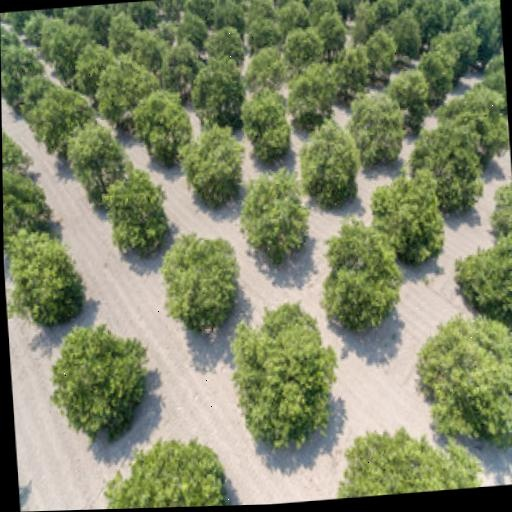tree-top: (234, 299, 338, 459), (426, 301, 512, 441), (54, 324, 151, 441), (346, 429, 490, 497), (3, 228, 89, 332), (402, 120, 495, 214), (112, 437, 231, 509), (324, 218, 405, 316), (165, 237, 244, 324), (97, 178, 173, 268), (237, 170, 310, 259), (370, 174, 445, 253), (448, 245, 512, 326), (66, 112, 125, 193), (136, 86, 194, 166), (450, 78, 510, 154), (174, 130, 243, 196), (305, 126, 367, 198), (353, 88, 407, 169), (196, 56, 245, 126), (389, 67, 433, 140), (3, 168, 53, 230), (292, 60, 337, 127), (411, 44, 457, 104), (331, 42, 377, 101), (428, 26, 481, 75), (100, 55, 147, 108), (250, 96, 290, 154), (73, 40, 112, 97), (38, 87, 85, 134), (460, 0, 502, 52), (1, 37, 38, 96), (249, 46, 288, 98), (205, 23, 247, 69), (49, 21, 89, 69), (287, 24, 325, 73), (391, 5, 429, 52), (104, 7, 141, 53), (491, 184, 512, 260), (243, 15, 283, 53), (175, 6, 207, 51), (418, 0, 464, 31), (368, 29, 395, 79), (278, 0, 310, 40), (315, 14, 347, 53), (308, 0, 335, 24), (375, 0, 402, 17), (336, 0, 363, 13)
